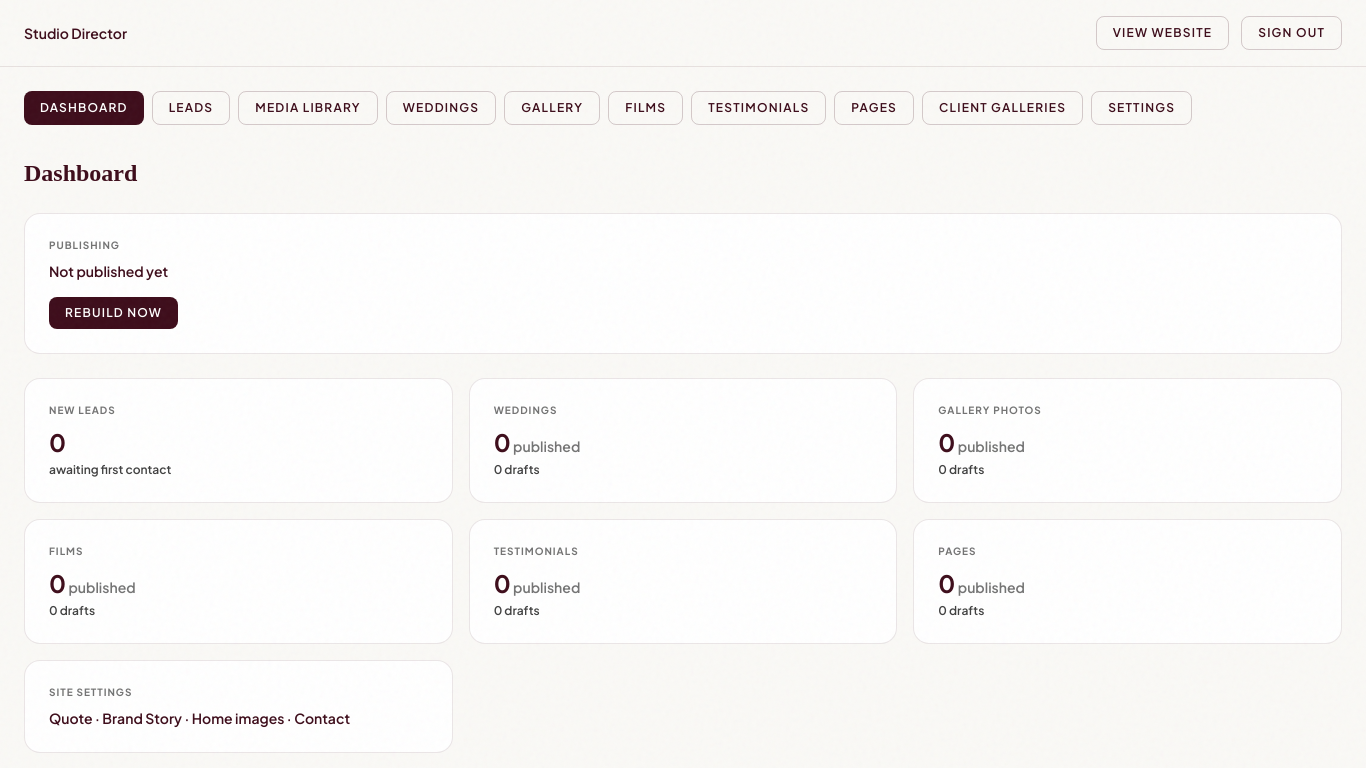
it: admin App shell › Media Library tab › surfaces an in-use refusal without removing the tile
Click the button "Media Library" at [308, 108], box [238, 91, 378, 125]
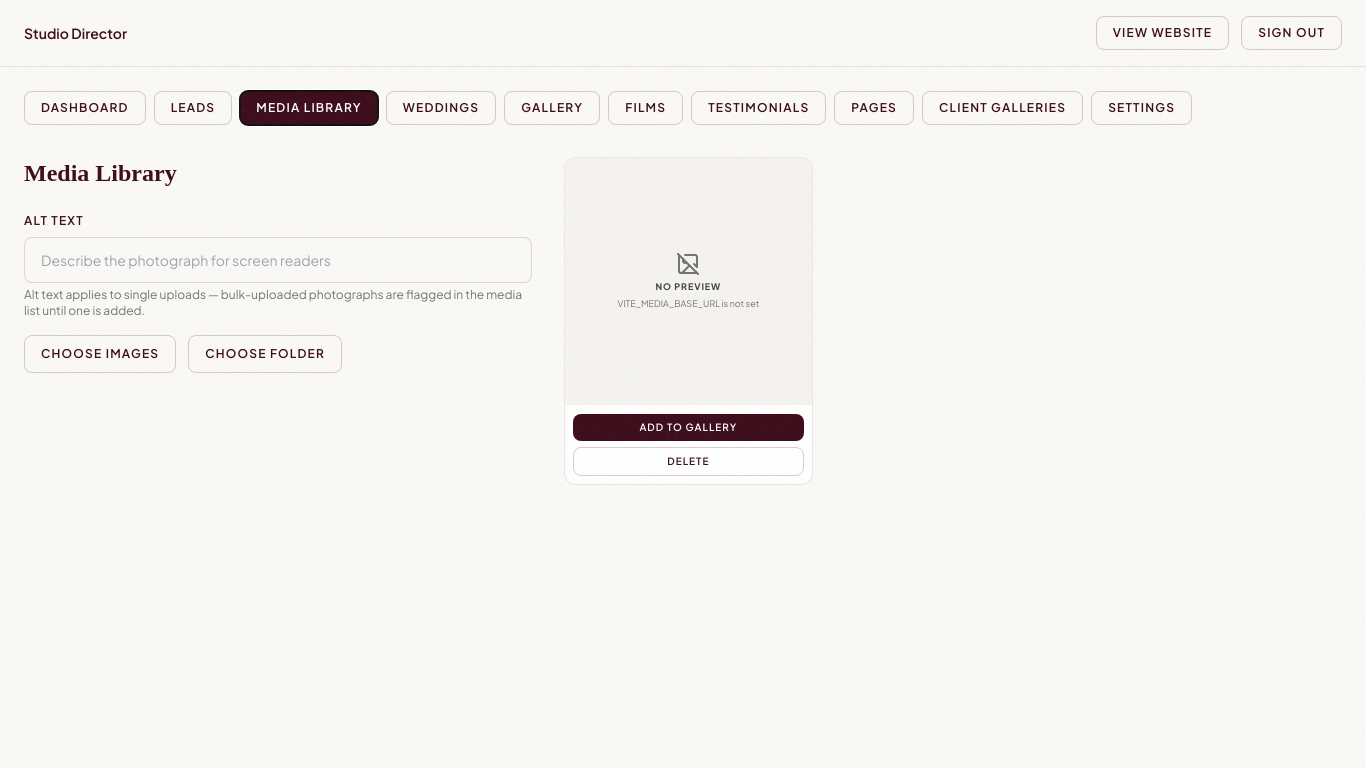
Check: the button with aria-label "delete photograph: a couple at dusk" is shown
Click the button with aria-label "delete photograph: a couple at dusk" at [688, 461], box [573, 447, 804, 476]
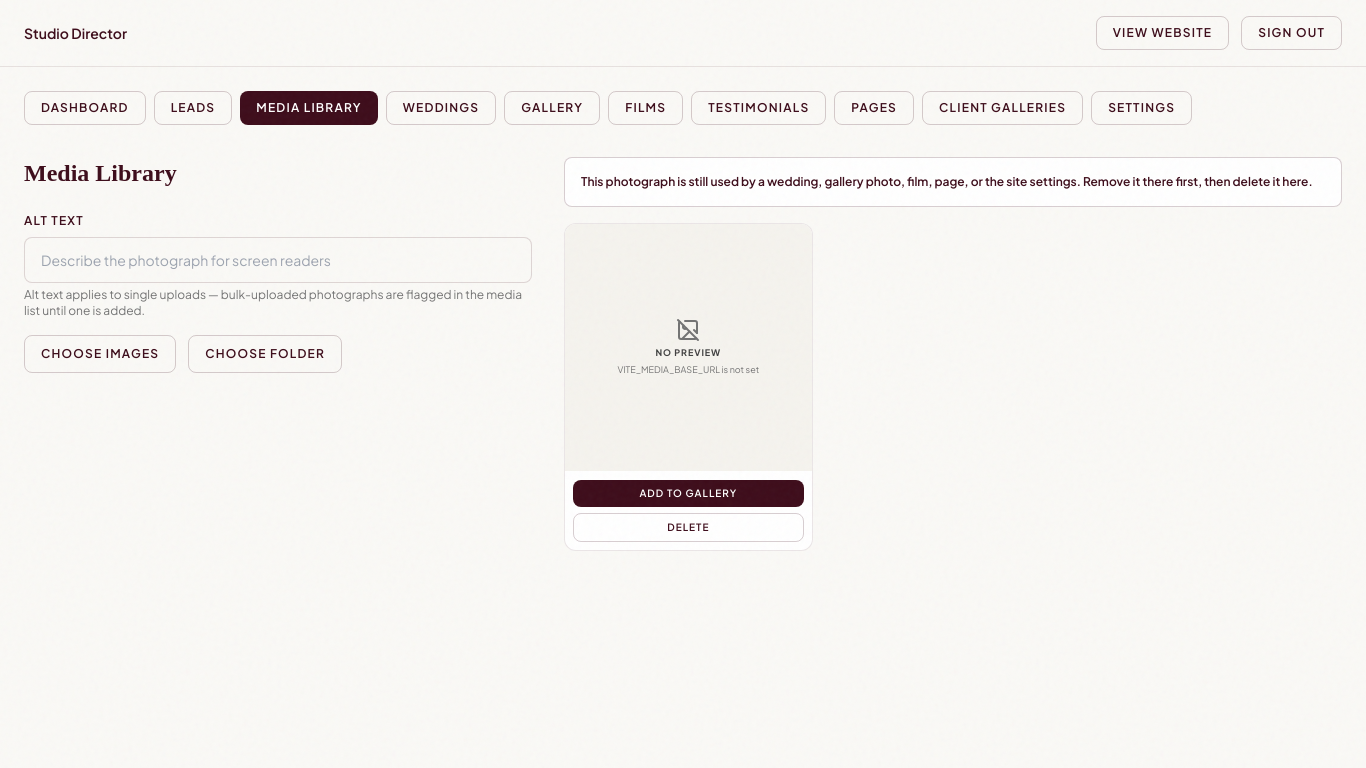
Check: the button with aria-label "delete photograph: a couple at dusk" is shown, box [573, 513, 804, 542]
Check: the message shows "still used by", box [581, 174, 1313, 189]
